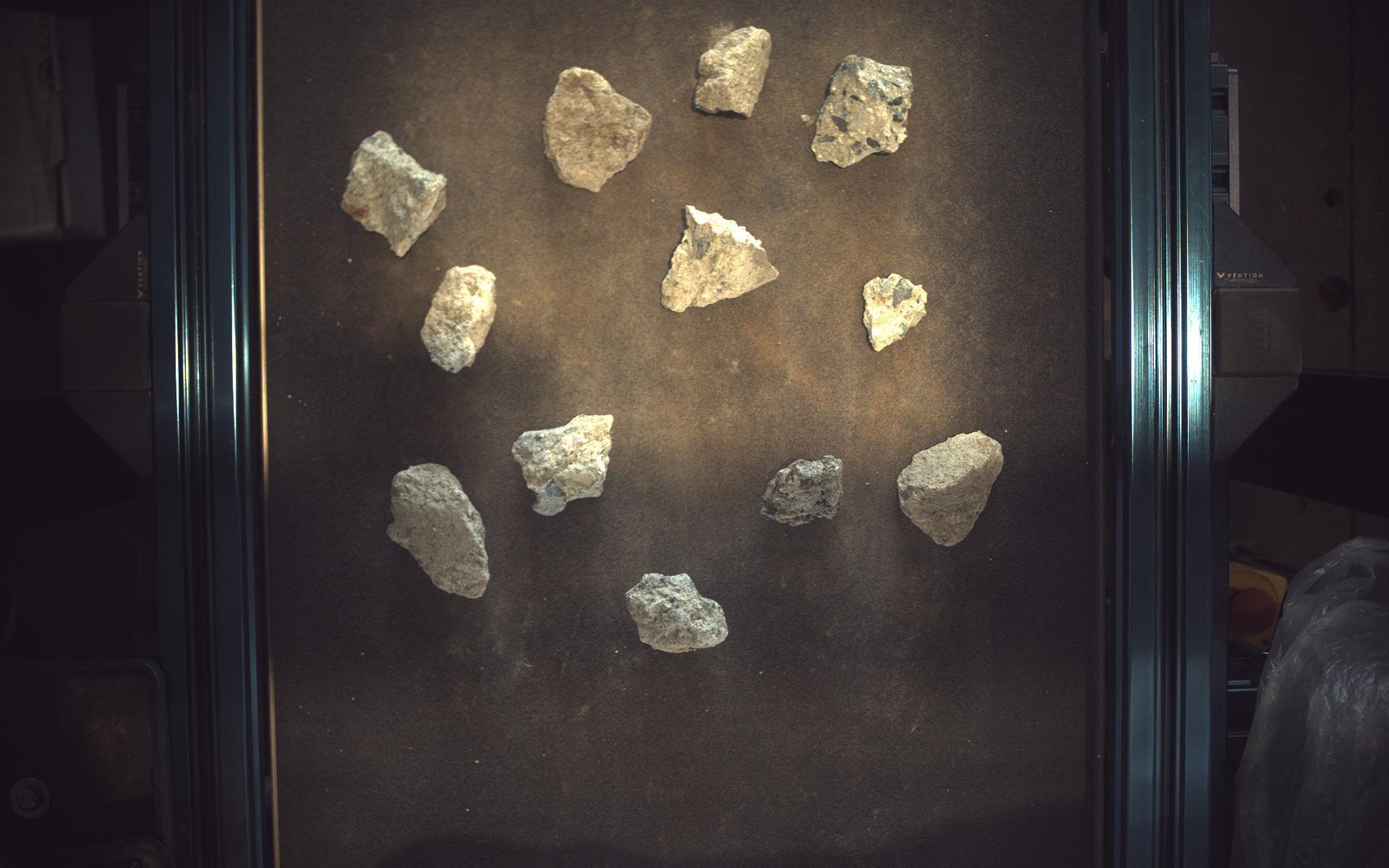concrete: (387, 464, 490, 600), (544, 66, 653, 191), (341, 130, 447, 256), (663, 205, 780, 312), (899, 431, 1006, 547), (813, 54, 914, 166), (513, 415, 614, 516), (626, 574, 729, 655), (420, 264, 496, 373), (695, 25, 773, 116), (762, 455, 844, 527), (865, 273, 929, 352)
